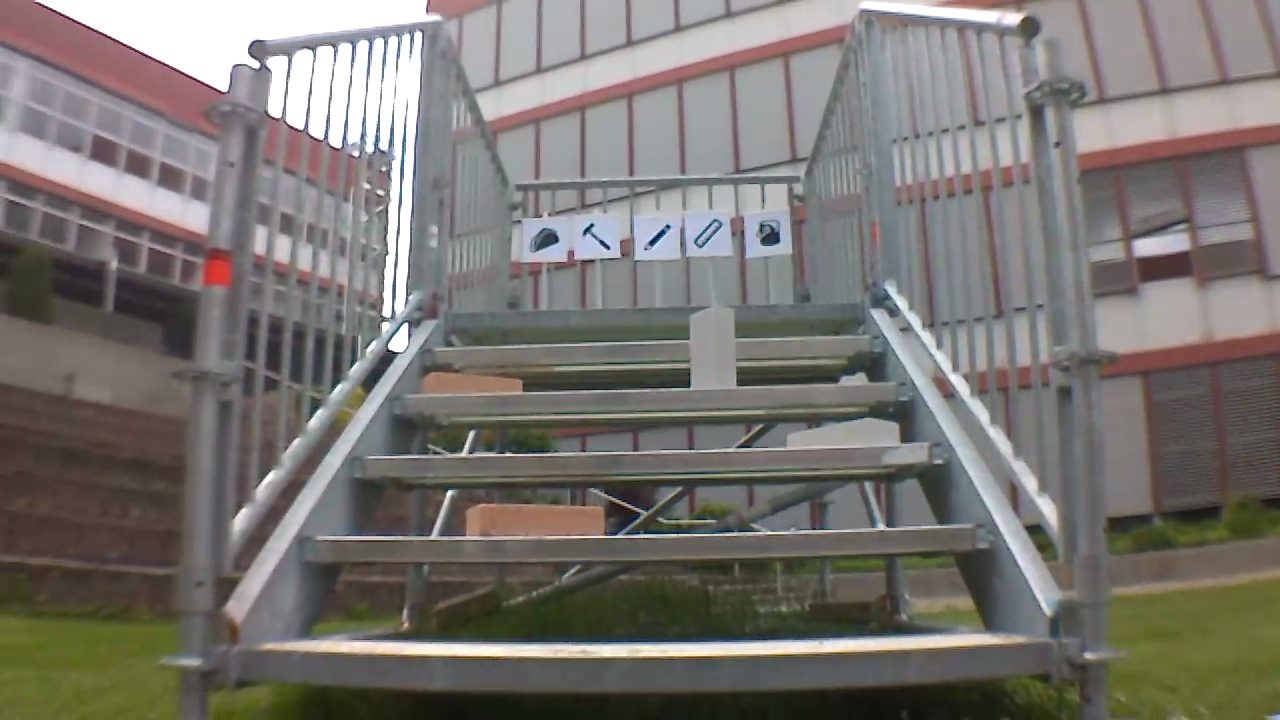brick: (465, 502, 602, 537), (691, 306, 736, 389), (788, 419, 898, 446), (423, 372, 521, 394)
bucket: (750, 216, 785, 248)
edge: (239, 638, 1052, 692), (302, 525, 994, 560), (352, 442, 951, 473), (392, 380, 913, 411), (421, 336, 885, 363), (450, 301, 865, 327)
hammer: (579, 218, 615, 251)
pencil: (640, 219, 675, 254)
ruler: (691, 214, 725, 254)
stairs: (176, 14, 1118, 719)
steps: (237, 295, 1060, 698)
taco: (526, 224, 561, 257)
